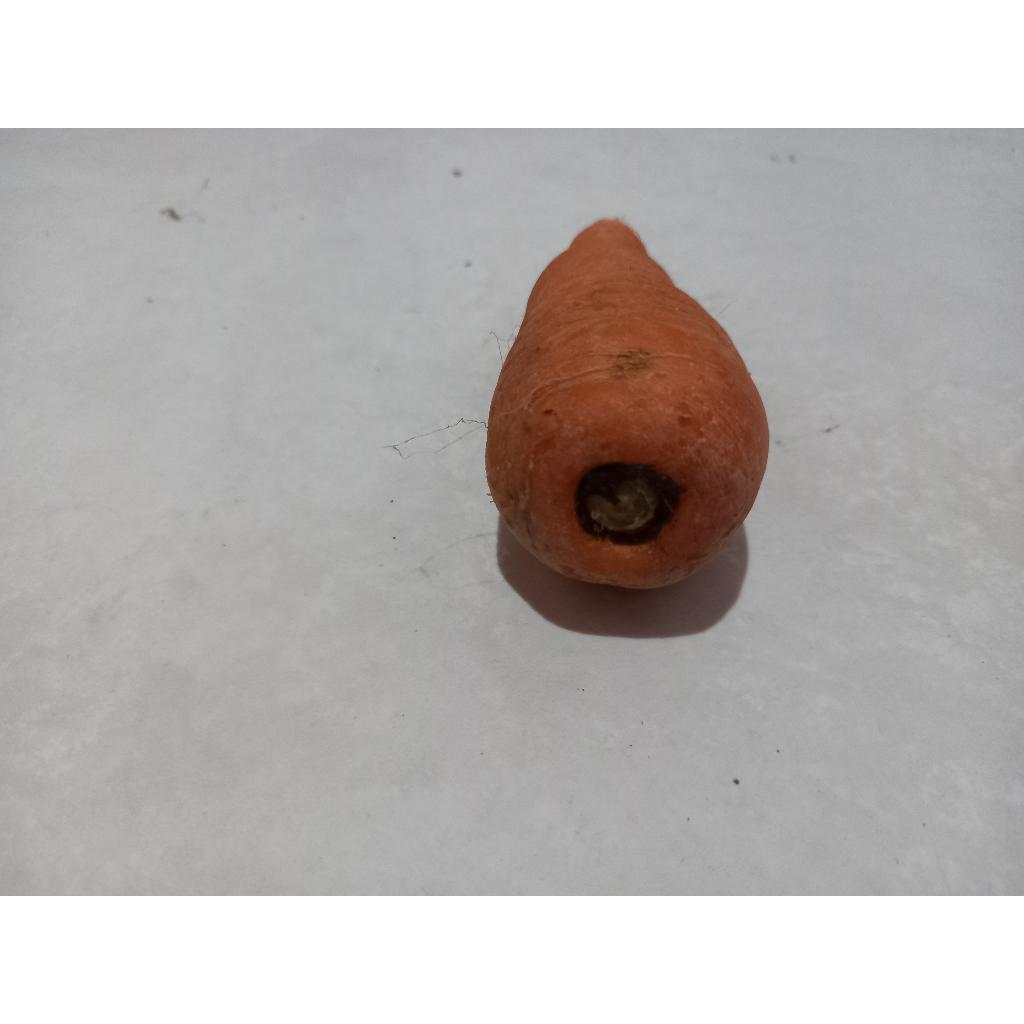carrot: (486, 220, 768, 588)
